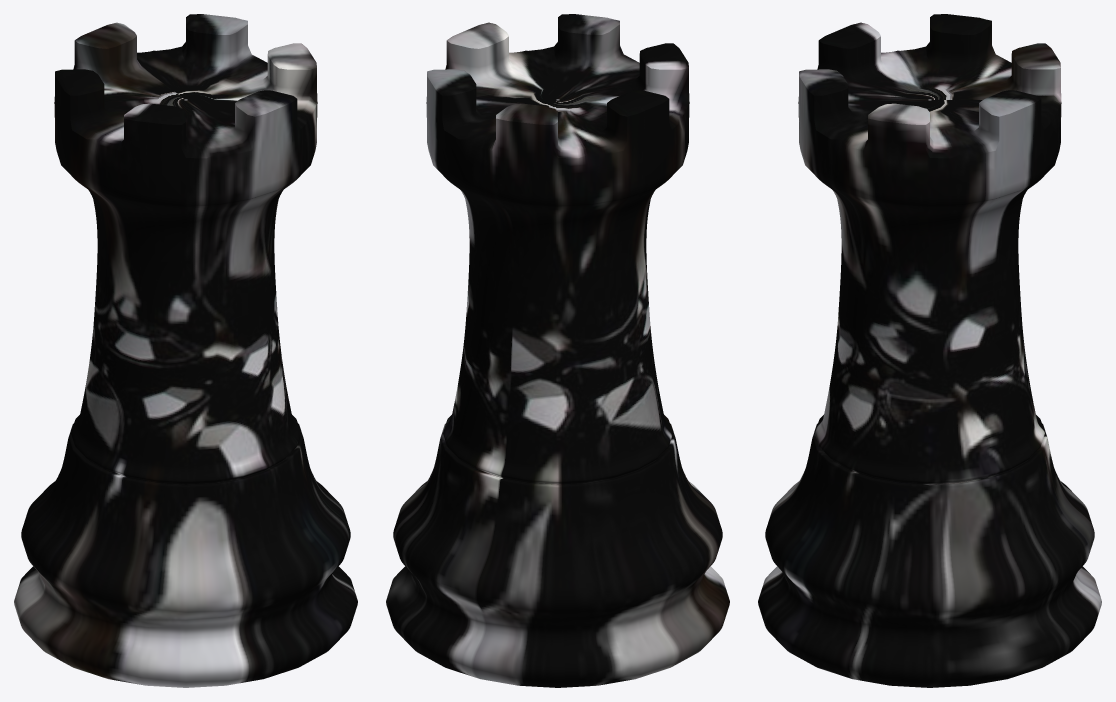
Rendered from Rook.obj.
3 views of the same model, side by side, from view 1: azimuth 30°, elevation 25°; view 2: azimuth 150°, elevation 25°; view 3: azimuth 270°, elevation 25° (orthographic).
Parts seen in each view (by area): view 1: mesh01; view 2: mesh01; view 3: mesh01.
Boxes of the visible parts, x1,y1,x2,y2 form: mesh01: [14, 14, 357, 687]; mesh01: [386, 14, 729, 687]; mesh01: [758, 14, 1101, 687].
Size of the model in its own units: 7.93 by 14.41 by 7.93.
